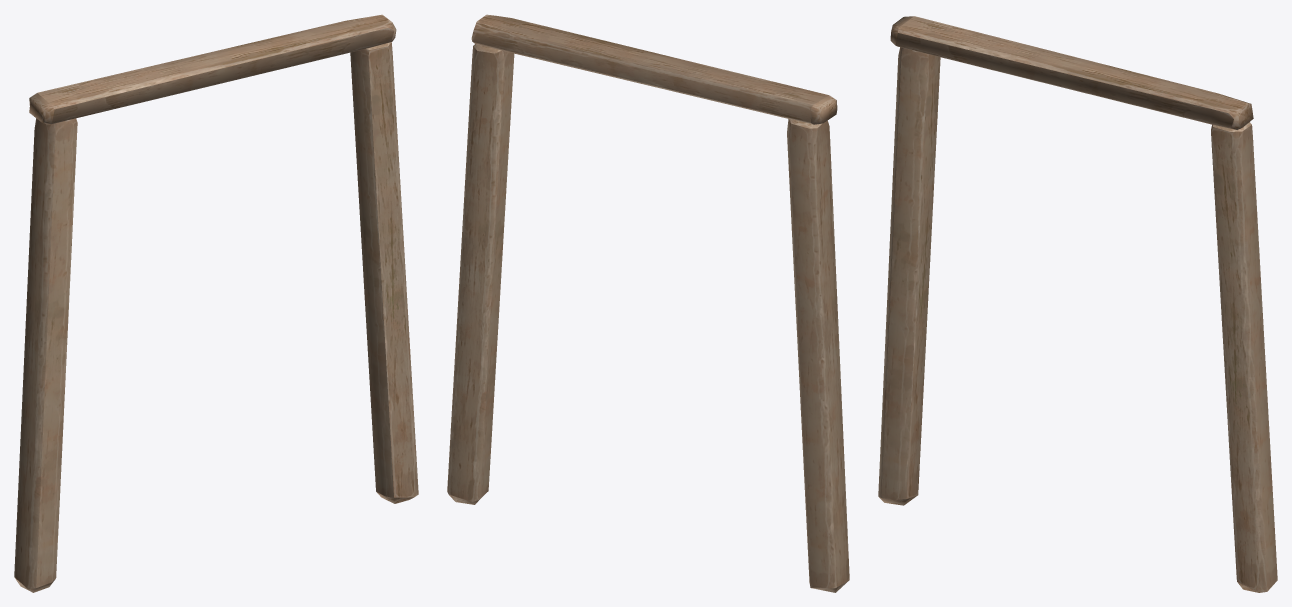
Rendered from Beam_path_01.fbx.
3 renders of one model, left to right at view 1: azimuth 30°, elevation 25°; view 2: azimuth 150°, elevation 25°; view 3: azimuth 330°, elevation 25°, orthographic.
Parts seen in each view (by area): view 1: Beam_path_01; view 2: Beam_path_01; view 3: Beam_path_01.
Boxes of the visible parts, box(x1,y1,x2,y2) form: Beam_path_01: box(14, 14, 418, 592); Beam_path_01: box(447, 14, 849, 592); Beam_path_01: box(878, 16, 1277, 592).
Bounding box in the file's own units: 2.13 × 2.54 × 0.2025.
